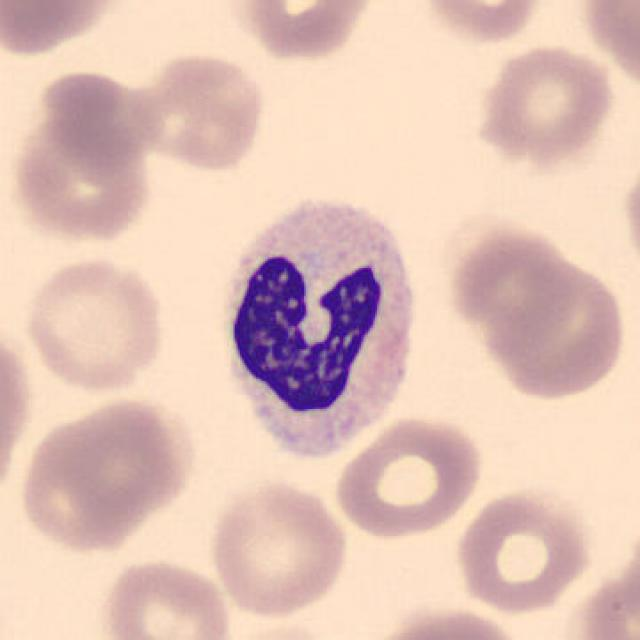Neutrophil: (206, 190, 428, 469)
RBC: (13, 393, 199, 550), (7, 75, 160, 248), (473, 248, 629, 404), (20, 252, 170, 397), (204, 476, 352, 621), (331, 413, 487, 541), (450, 483, 597, 615), (471, 41, 619, 169), (443, 218, 581, 350), (126, 48, 268, 174), (32, 65, 164, 173), (97, 553, 234, 640), (228, 0, 380, 65), (2, 0, 128, 58), (0, 316, 36, 508), (574, 0, 640, 95), (560, 562, 640, 640), (362, 603, 530, 640), (414, 0, 548, 46), (202, 613, 343, 640), (618, 150, 640, 282)
